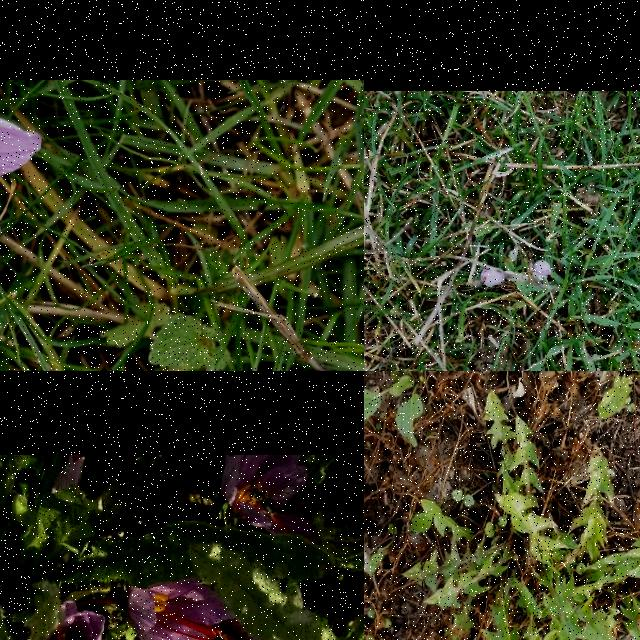flower: (220, 455, 312, 543), (35, 600, 105, 640), (480, 268, 506, 286), (534, 260, 552, 278)
overlap: (127, 584, 251, 640)
